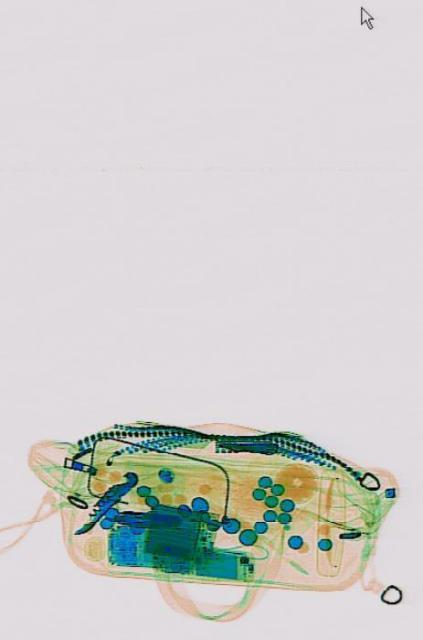Knife: (69, 462, 138, 542)
